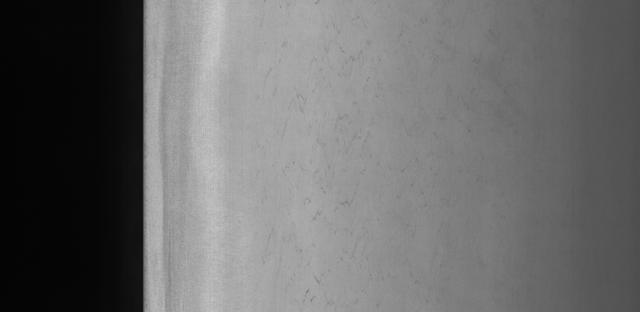silk_spot: (275, 20, 442, 278)
